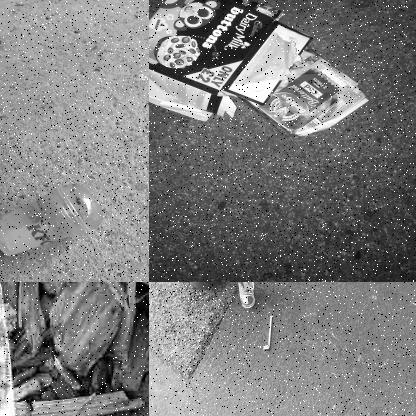cardboard: (149, 0, 309, 126)
glass: (236, 282, 255, 311)
plastic: (236, 47, 376, 136), (0, 181, 104, 258)
